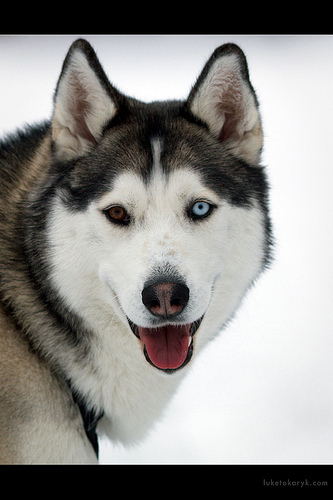dog: (0, 35, 276, 462)
